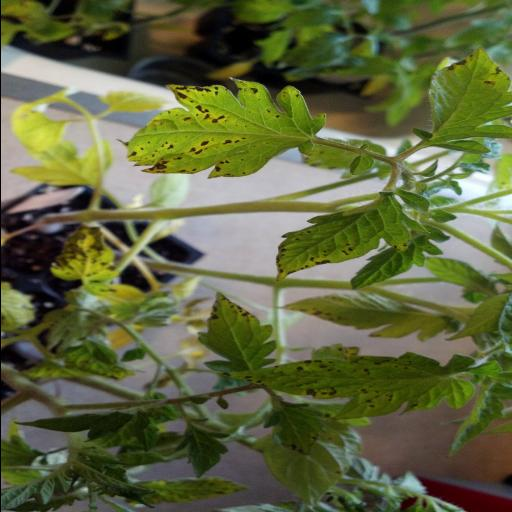disease_tomato: (109, 75, 323, 178), (207, 348, 481, 424), (271, 186, 433, 288), (411, 38, 512, 158), (195, 288, 277, 386), (38, 221, 126, 288), (262, 398, 334, 456)
